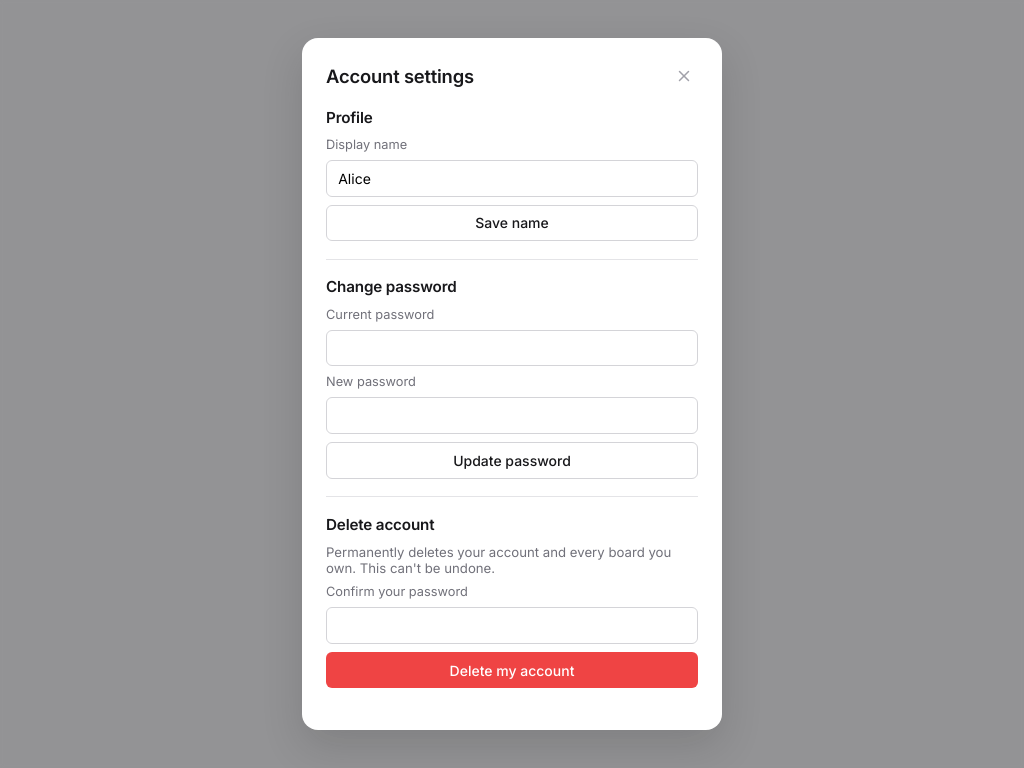
Test: AccountSettings › changes the password and shows the session-logout notice
The width and height of the screenshot is (1024, 768).
Step 1. Type "old-secret" into the password field labelled "Current password" → (512,348), box [326,330,698,366]
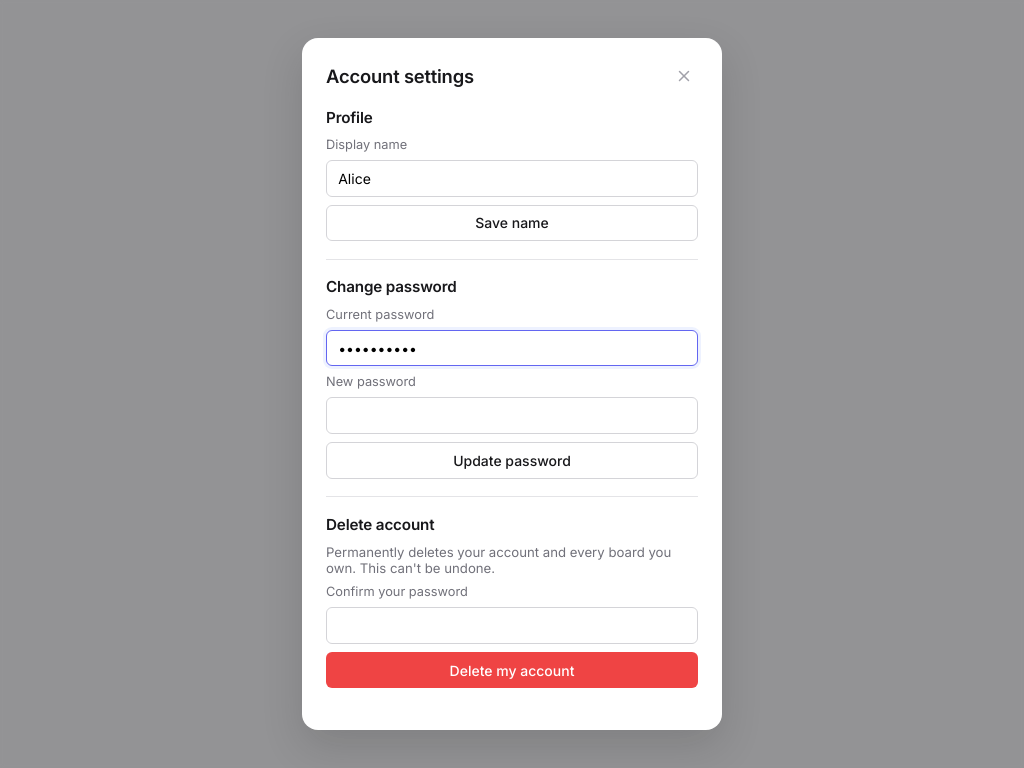
Step 2. Type "new-secret-123" into the password field labelled "New password" → (512,416), box [326,397,698,434]
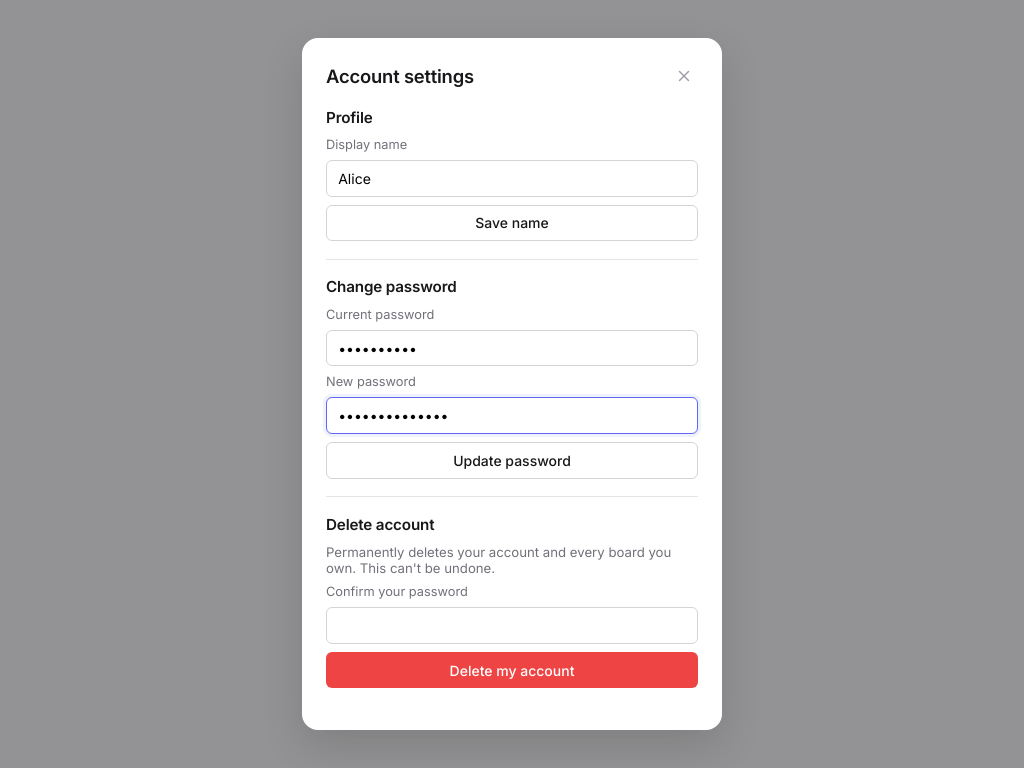
Step 3. Click the button "Update password" → (512,460), box [326,442,698,478]
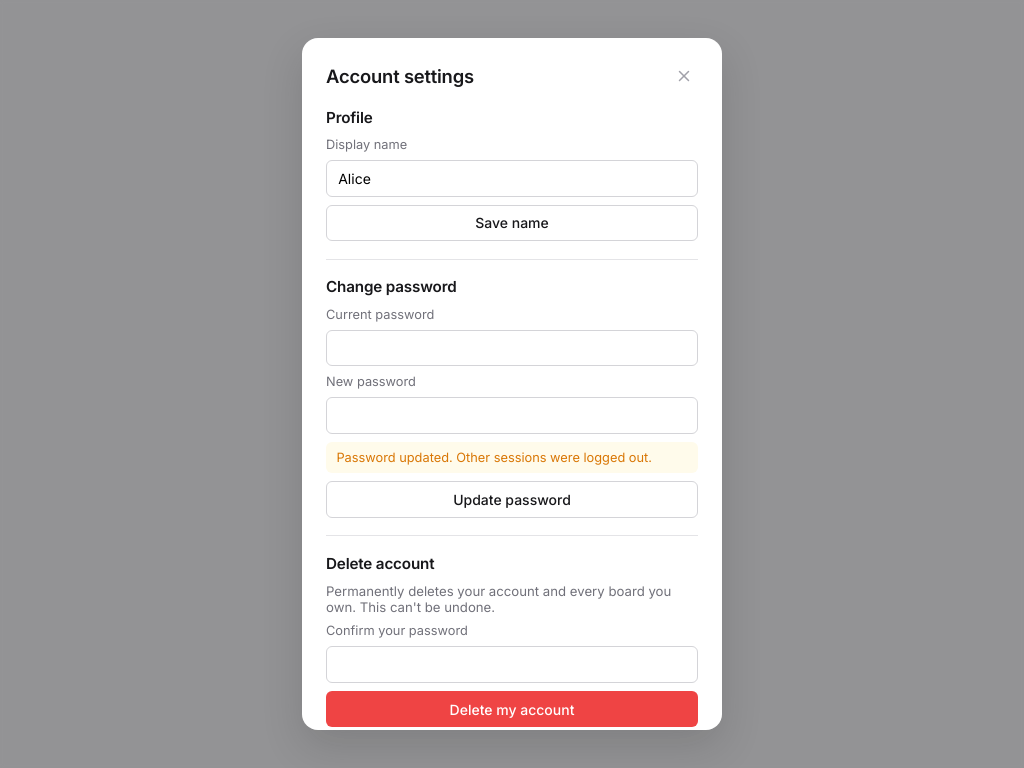
Expected: the text "Password updated. Other sessions were logged out." is shown, [326,442,698,473]
